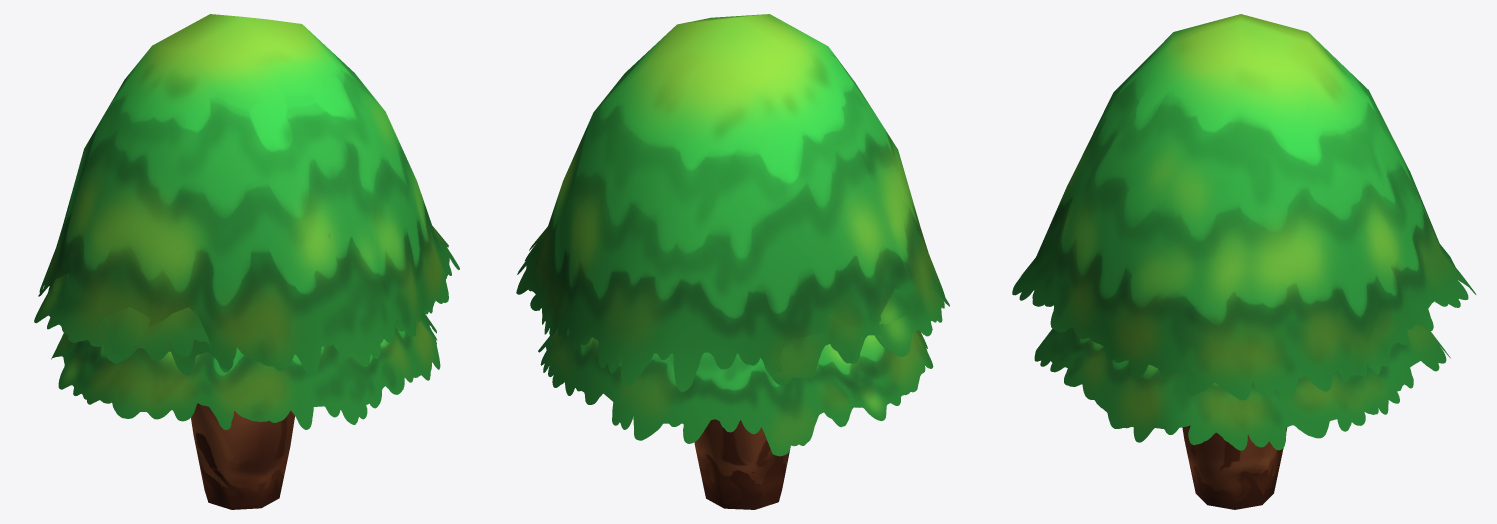
The model's file is Small_tree_fbx.fbx.
The picture shows the model from 3 angles, left to right: view 1: azimuth 30°, elevation 25°; view 2: azimuth 150°, elevation 25°; view 3: azimuth 270°, elevation 25°; orthographic projection.
Visible parts, largest first — view 1: Small_tree_geo; view 2: Small_tree_geo; view 3: Small_tree_geo.
Boxes of the visible parts, bbox=[...] form: Small_tree_geo: bbox=[34, 14, 459, 509]; Small_tree_geo: bbox=[516, 14, 949, 509]; Small_tree_geo: bbox=[1012, 14, 1476, 509].
Size of the model in its own units: 10.26 by 11.19 by 10.36.
